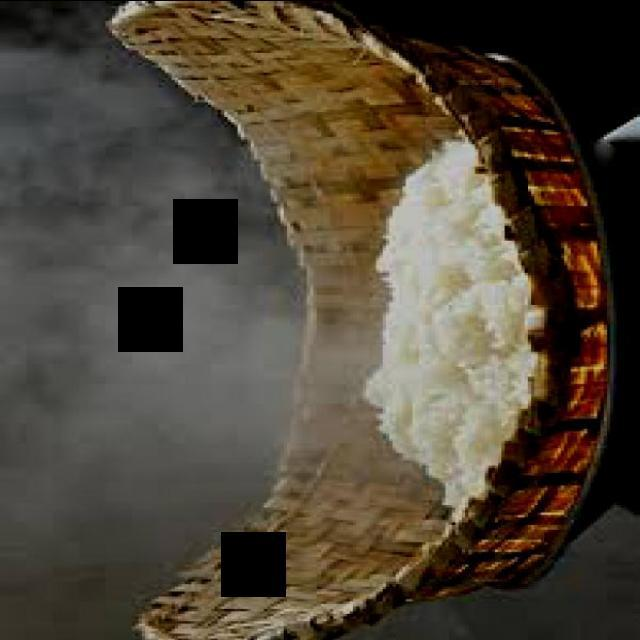rice: (361, 138, 531, 512)
